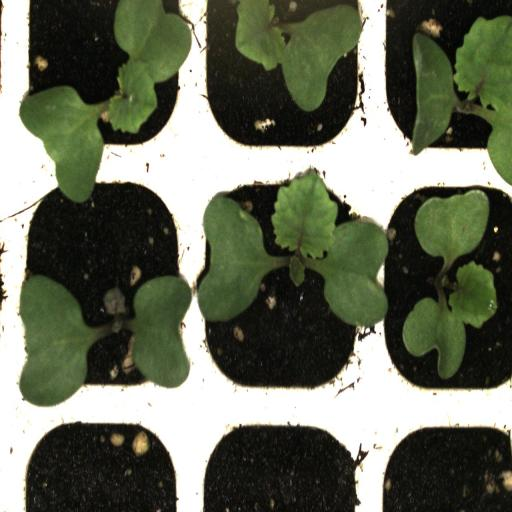Folha: (19, 275, 102, 407), (414, 189, 490, 263)
Germinacao: (192, 164, 378, 416), (12, 164, 192, 420), (377, 164, 512, 412), (192, 0, 374, 159), (18, 0, 190, 160), (383, 0, 512, 158)
